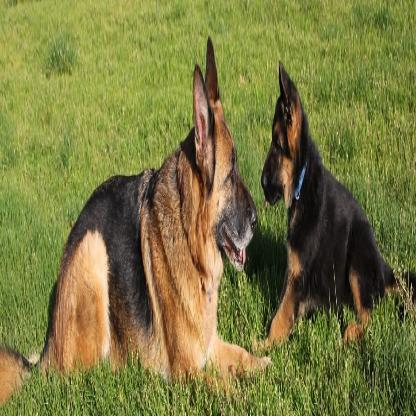german shepherd: (38, 46, 257, 402), (264, 63, 394, 353)
